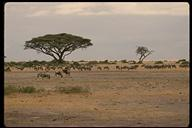antelope: (35, 71, 52, 83), (53, 69, 63, 80), (63, 68, 72, 77)
grass: (5, 84, 50, 95), (56, 86, 91, 95)
sky: (6, 3, 188, 32)
tree: (22, 31, 95, 62), (135, 45, 155, 62)
